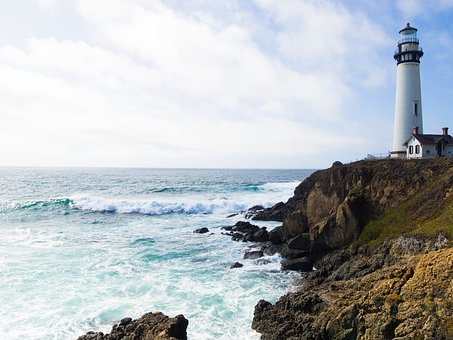sea: (1, 163, 358, 335)
sky: (1, 1, 387, 163)
stone: (278, 172, 445, 340)
